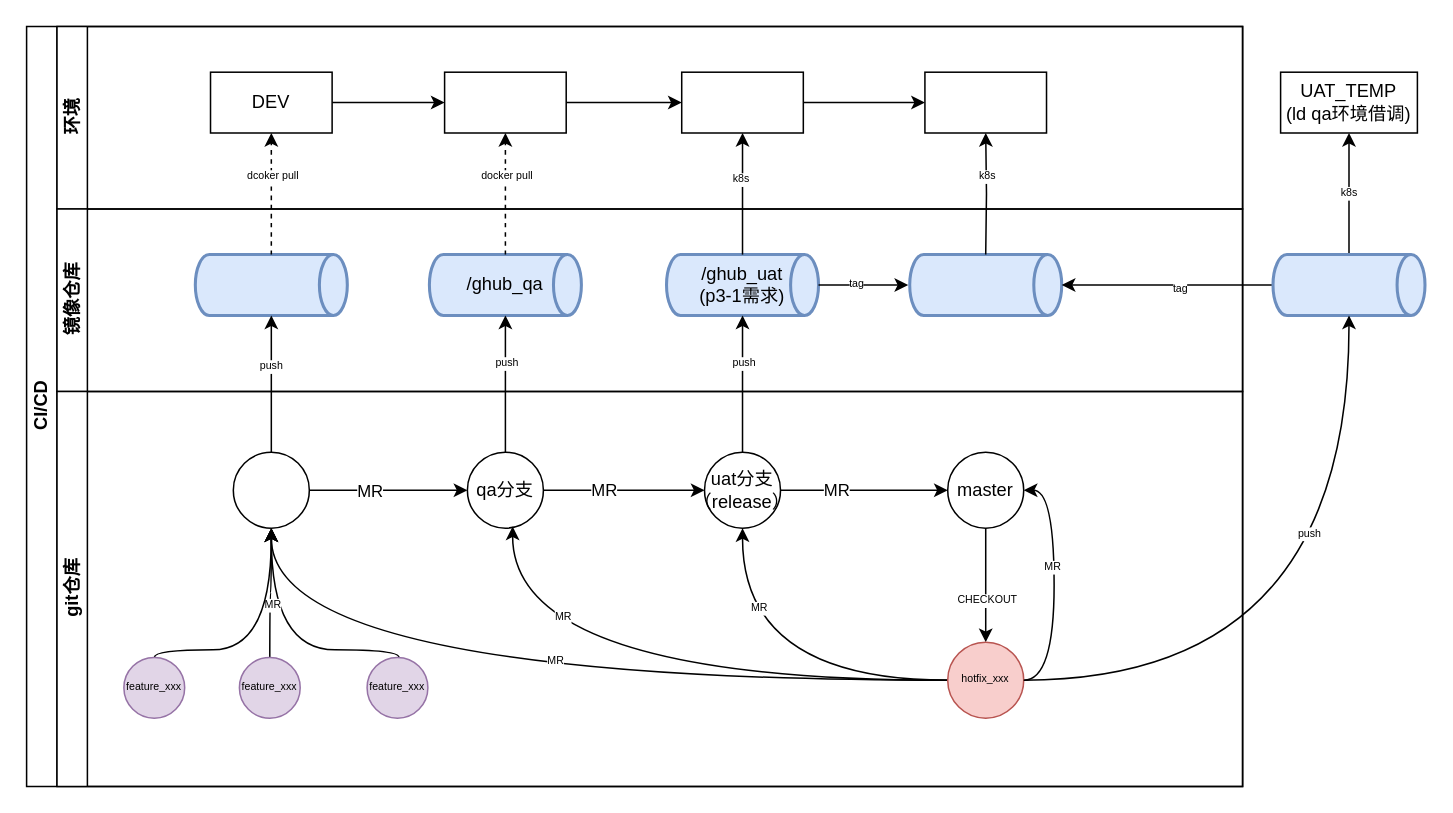
Image size: 1453x813. Some labels were removed from this diagram. Each missing label, with the centre of its shape:
"/ghub" goes at (x=984, y=284).
"/ghub_dev" goes at (x=270, y=284).
"/ghub_hot" goes at (x=1348, y=284).
"dev分支" goes at (x=270, y=489).
"PROD" goes at (x=985, y=102).
"QA（deep）" goes at (x=504, y=102).
"UAT" goes at (x=741, y=102).
